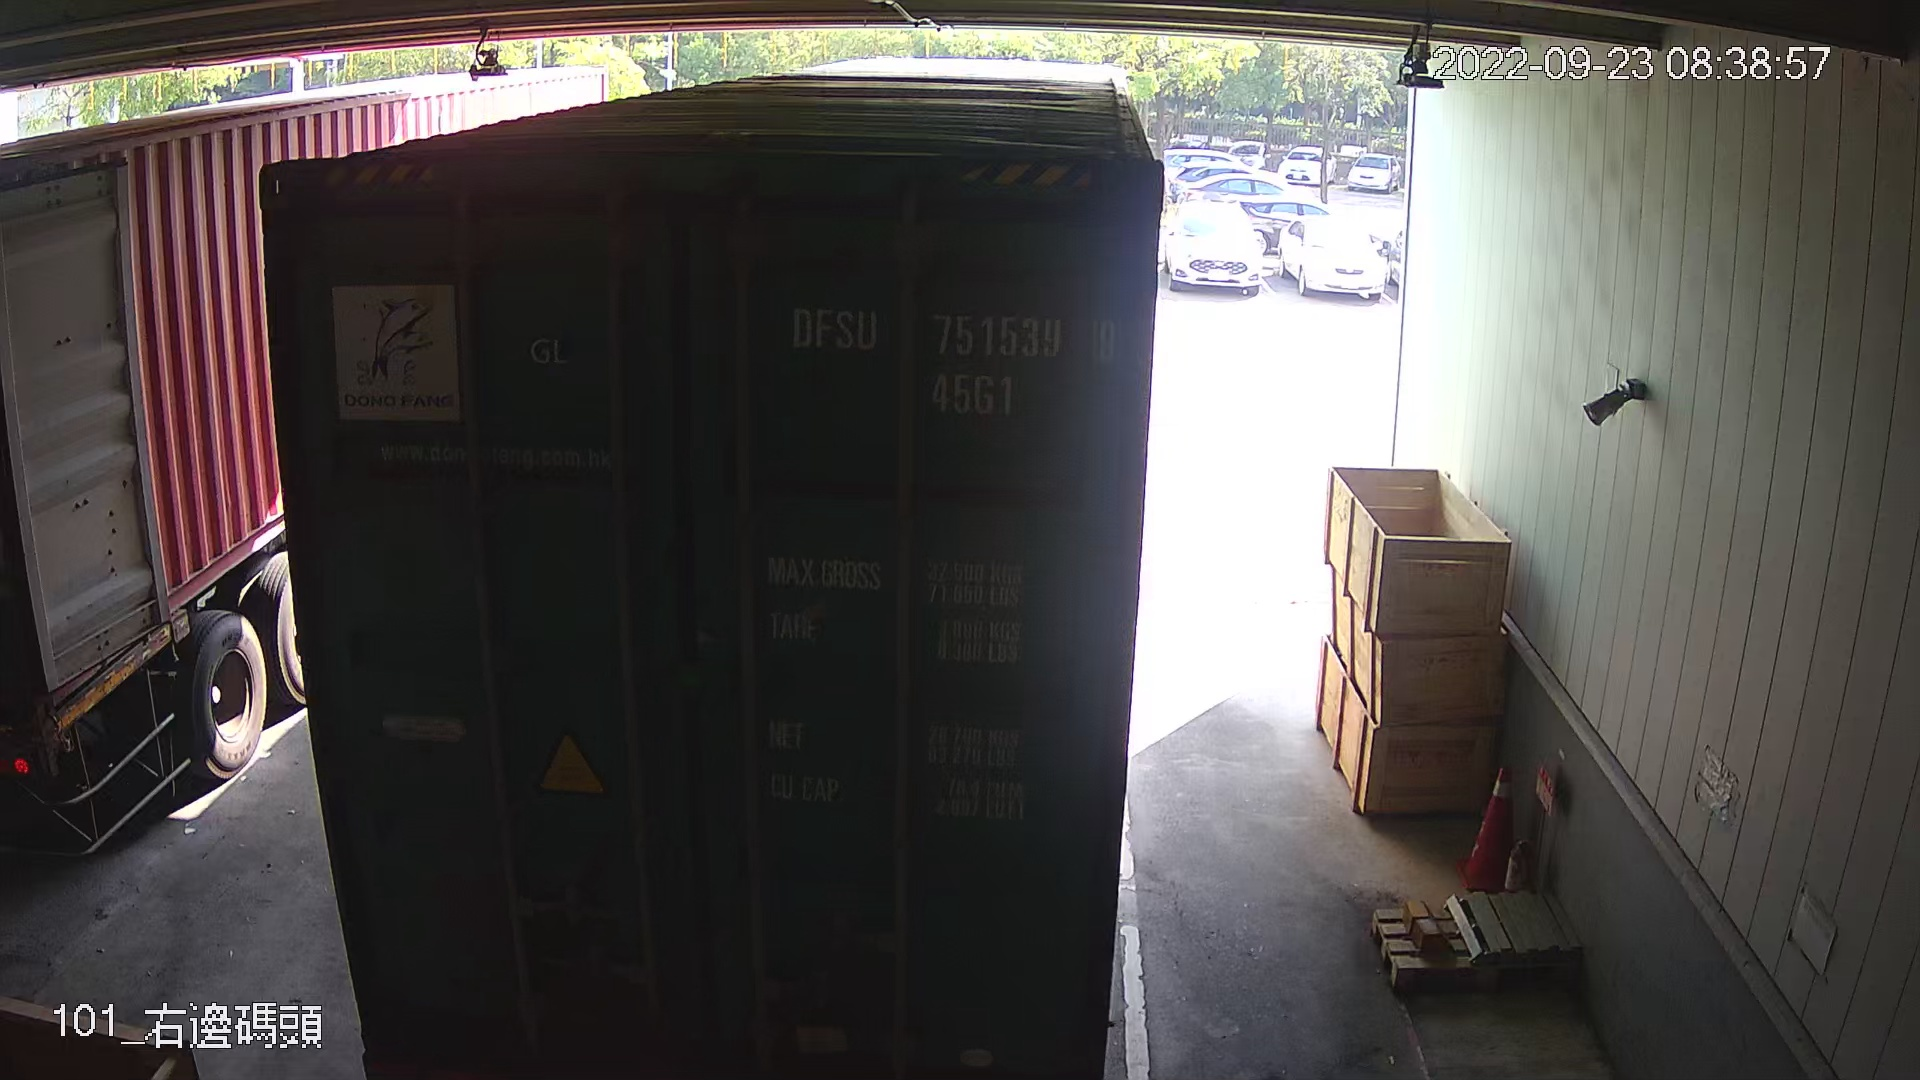container: (779, 289, 1135, 422)
